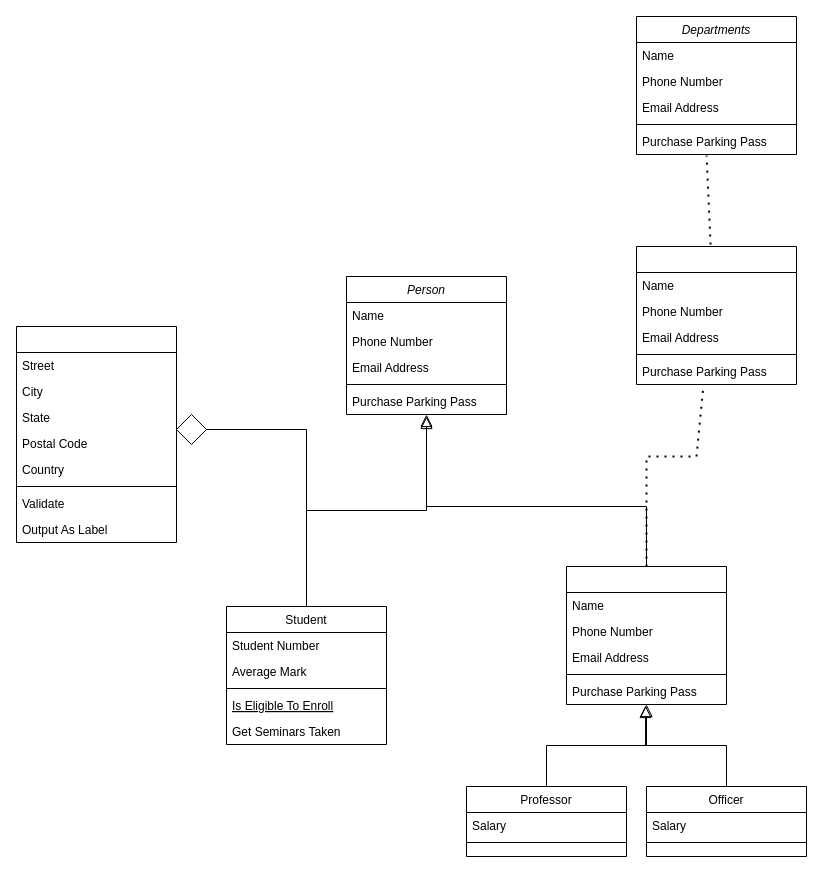
Image size: 823x873. Some labels were removed from this diagram. Here are the shapes that lost their labels. From the top down, the box of each, then its label:
(636, 246, 796, 384): Offiices
(16, 326, 176, 542): Classes
(566, 566, 726, 704): Worker
